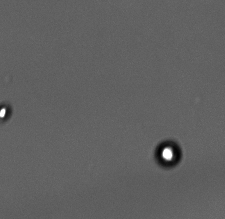Living Cell: (155, 140, 182, 167), (1, 103, 12, 123)
